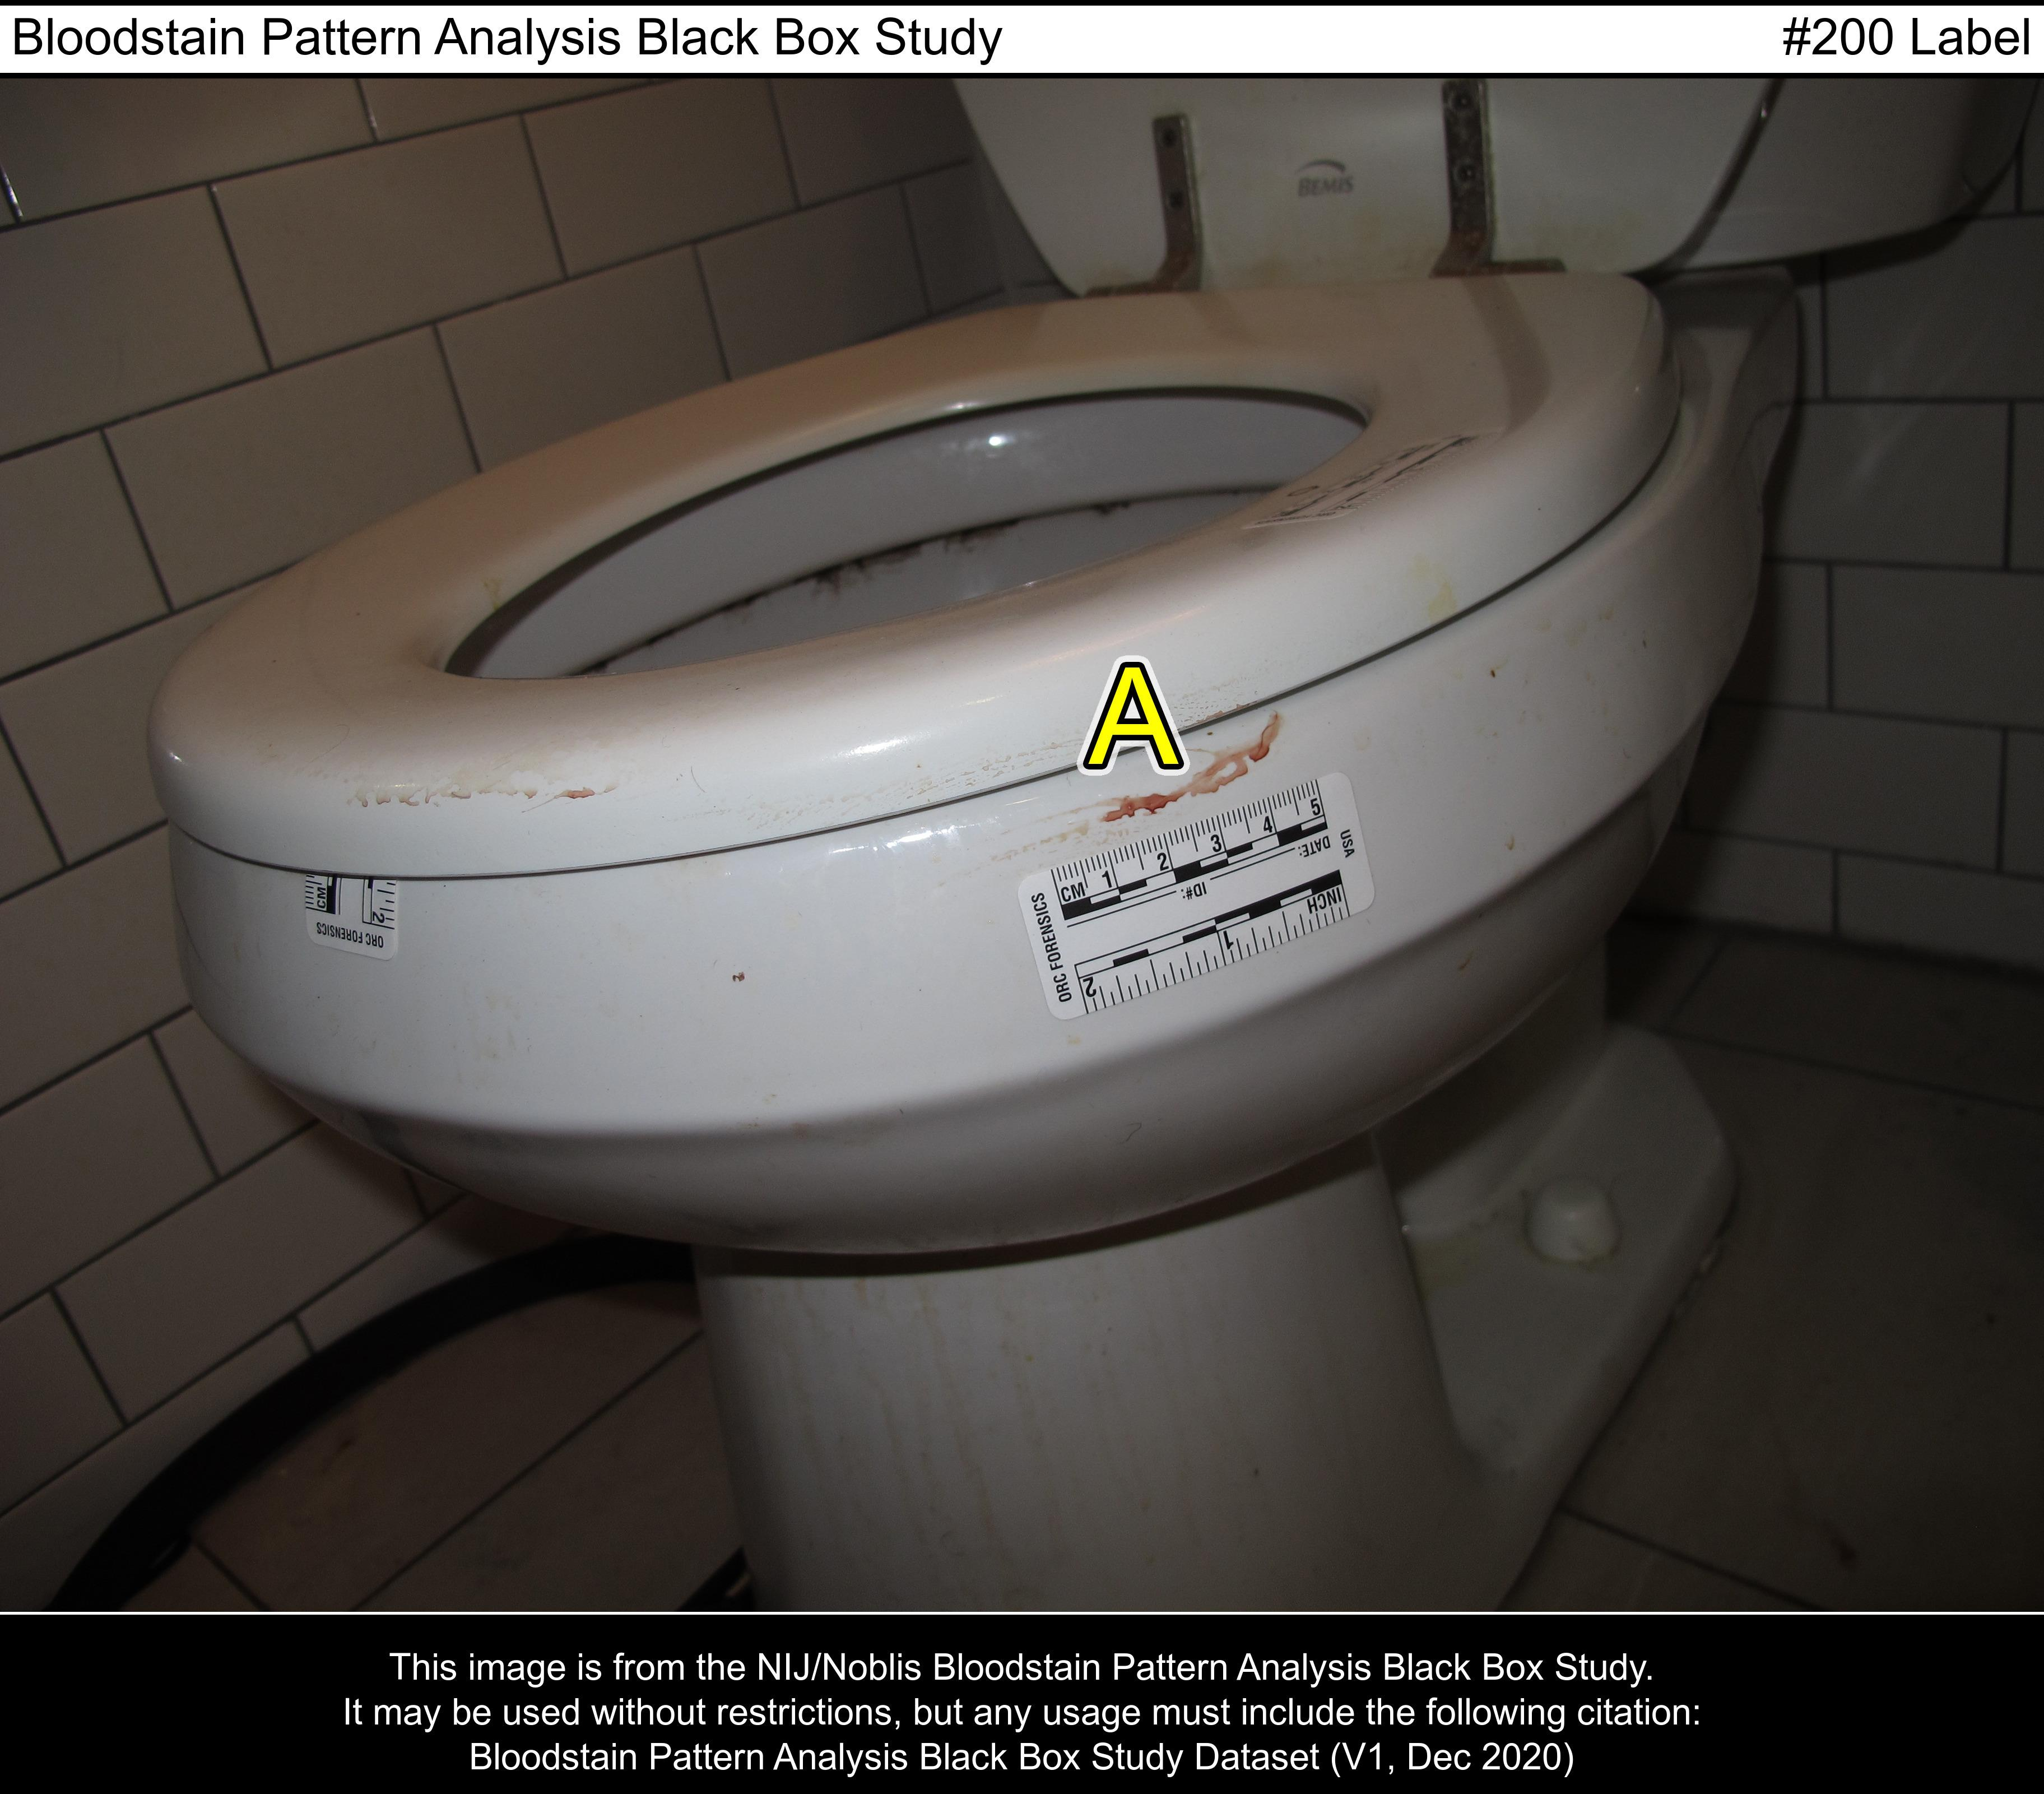Transfer: (1053, 777, 1300, 791)
